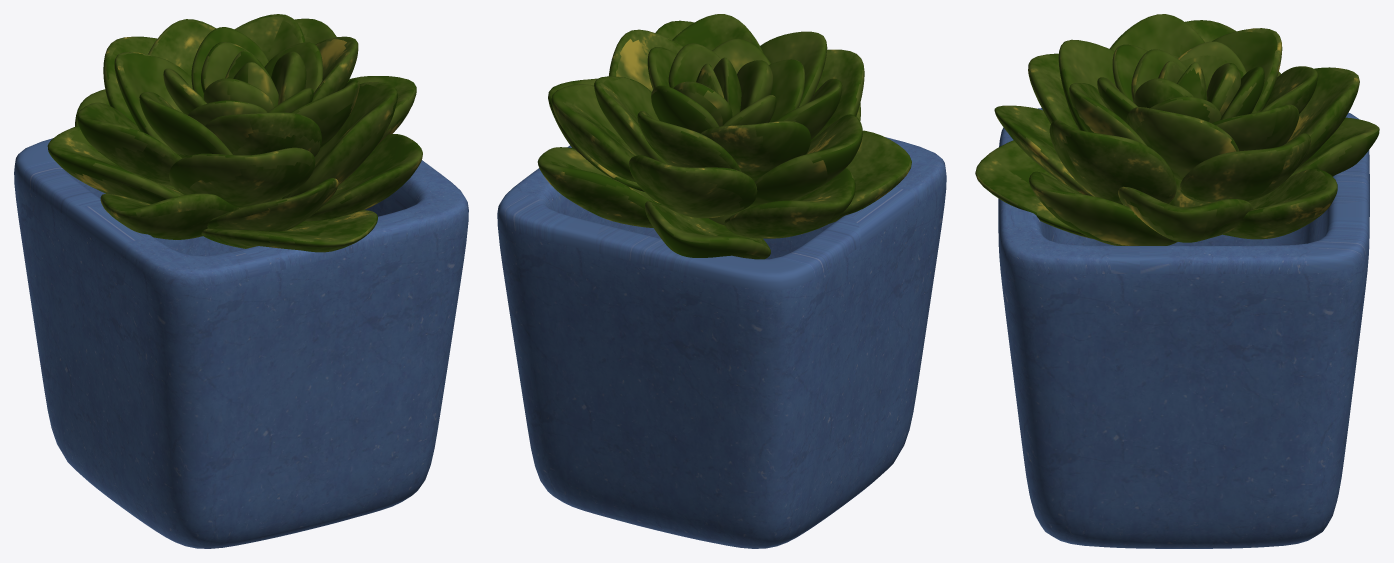
The model's file is ECHEVERIA_LONGISSIMA_BLUE_CERAMIC_POT.glb.
3 views of the same model, side by side, from view 1: azimuth 30°, elevation 25°; view 2: azimuth 150°, elevation 25°; view 3: azimuth 270°, elevation 25° (orthographic). The views are drawn at different scales.
Parts seen in each view (by area): view 1: pot01, suculant; view 2: pot01, suculant; view 3: pot01, suculant.
Boxes of the visible parts, left/top/right/bottom form: pot01: left=14, top=138, right=468, bottom=548; suculant: left=47, top=14, right=422, bottom=252; pot01: left=497, top=137, right=946, bottom=548; suculant: left=537, top=14, right=911, bottom=259; pot01: left=998, top=108, right=1369, bottom=548; suculant: left=975, top=14, right=1379, bottom=245.
Bounding box in the file's own units: 0.955 × 1.18 × 0.99.
2 materials, 2 textured.
